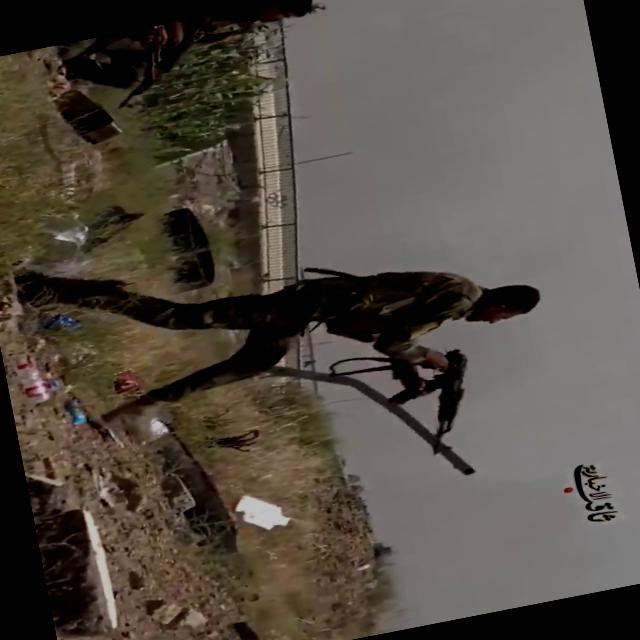long weapon: (379, 334, 491, 471)
